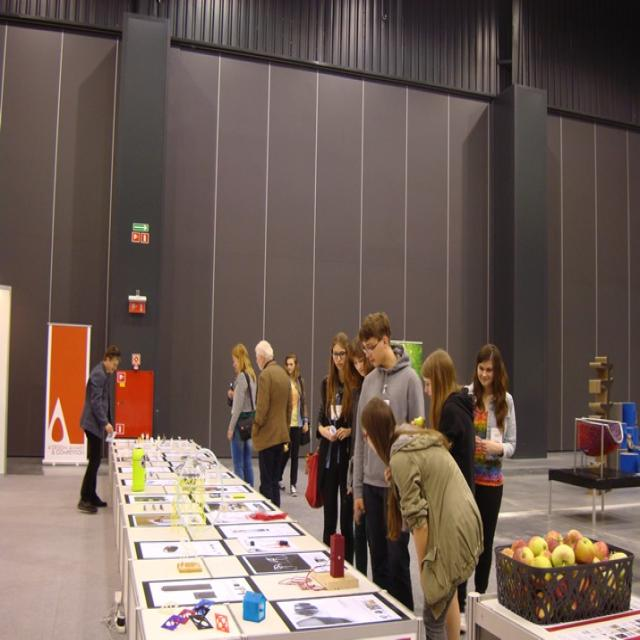body: (356, 394, 487, 639), (351, 309, 428, 621), (457, 343, 518, 634), (421, 349, 477, 634), (316, 330, 362, 567), (76, 340, 123, 517), (250, 339, 294, 512), (224, 340, 260, 490), (276, 352, 310, 498), (342, 332, 374, 436)
